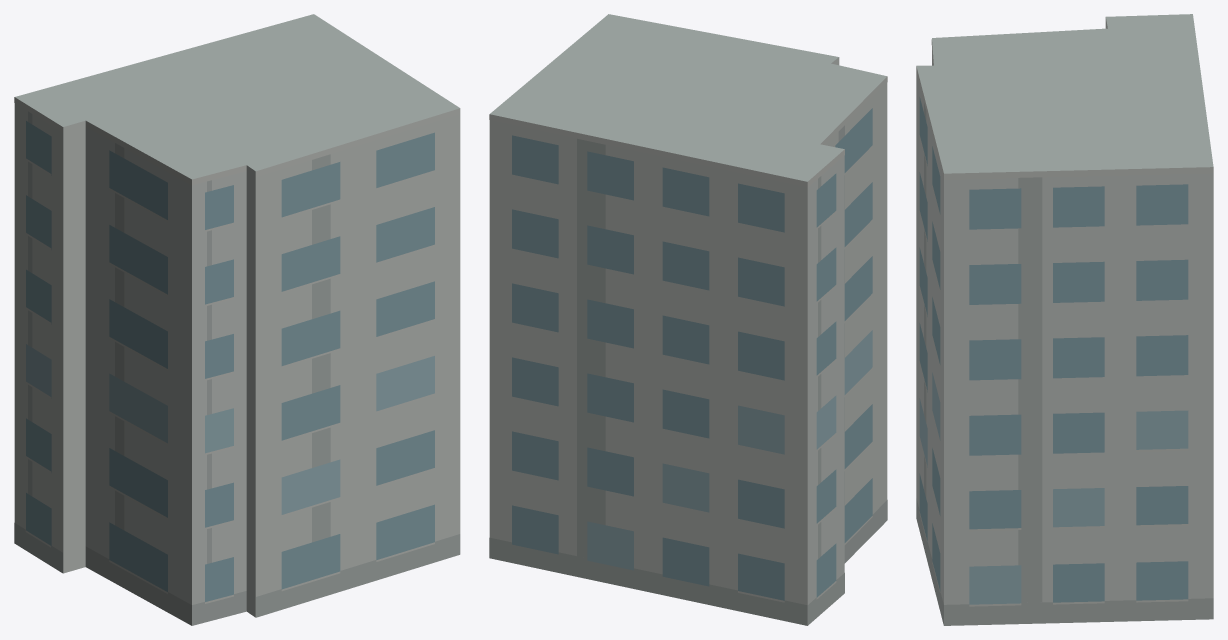
Rendered from residential-05612ddc-7b8b-4f22-9aef-3c6d513ffc74.glb.
The picture shows the model from 3 angles, left to right: view 1: azimuth 30°, elevation 25°; view 2: azimuth 150°, elevation 25°; view 3: azimuth 270°, elevation 25°; orthographic projection.
Parts seen in each view (by area): view 1: residential-05612ddc-7b8b-4f22-9aef-3c6d513ffc74.tmp; view 2: residential-05612ddc-7b8b-4f22-9aef-3c6d513ffc74.tmp; view 3: residential-05612ddc-7b8b-4f22-9aef-3c6d513ffc74.tmp.
Part boxes in pixels (x1=…): residential-05612ddc-7b8b-4f22-9aef-3c6d513ffc74.tmp: x1=14, y1=14, x2=460, y2=625; residential-05612ddc-7b8b-4f22-9aef-3c6d513ffc74.tmp: x1=489, y1=14, x2=887, y2=625; residential-05612ddc-7b8b-4f22-9aef-3c6d513ffc74.tmp: x1=916, y1=14, x2=1213, y2=625.
Bounding box in the file's own units: 13.86 × 18.3 × 10.91.
